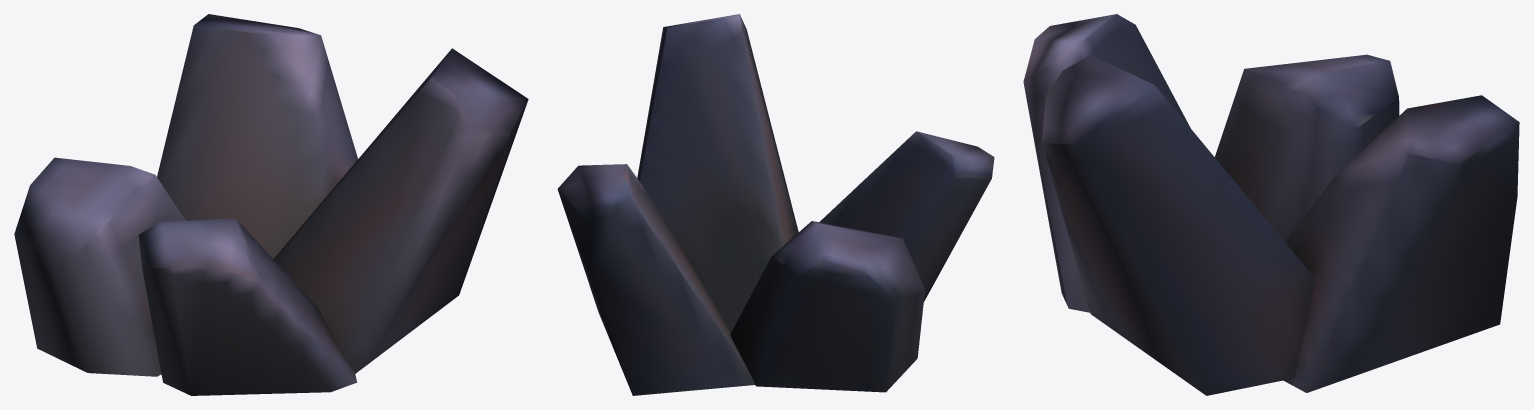
Rendered from small_death.fbx.
3 renders of one model, left to right at view 1: azimuth 30°, elevation 25°; view 2: azimuth 150°, elevation 25°; view 3: azimuth 270°, elevation 25°, orthographic. The views are drawn at different scales.
Parts seen in each view (by area): view 1: small_death; view 2: small_death; view 3: small_death.
Boxes of the visible parts, x1,y1,x2,y2 form: small_death: [14, 14, 528, 395]; small_death: [557, 14, 994, 395]; small_death: [1023, 14, 1519, 395].
Bounding box in the file's own units: 88.81 × 61.45 × 90.14.
